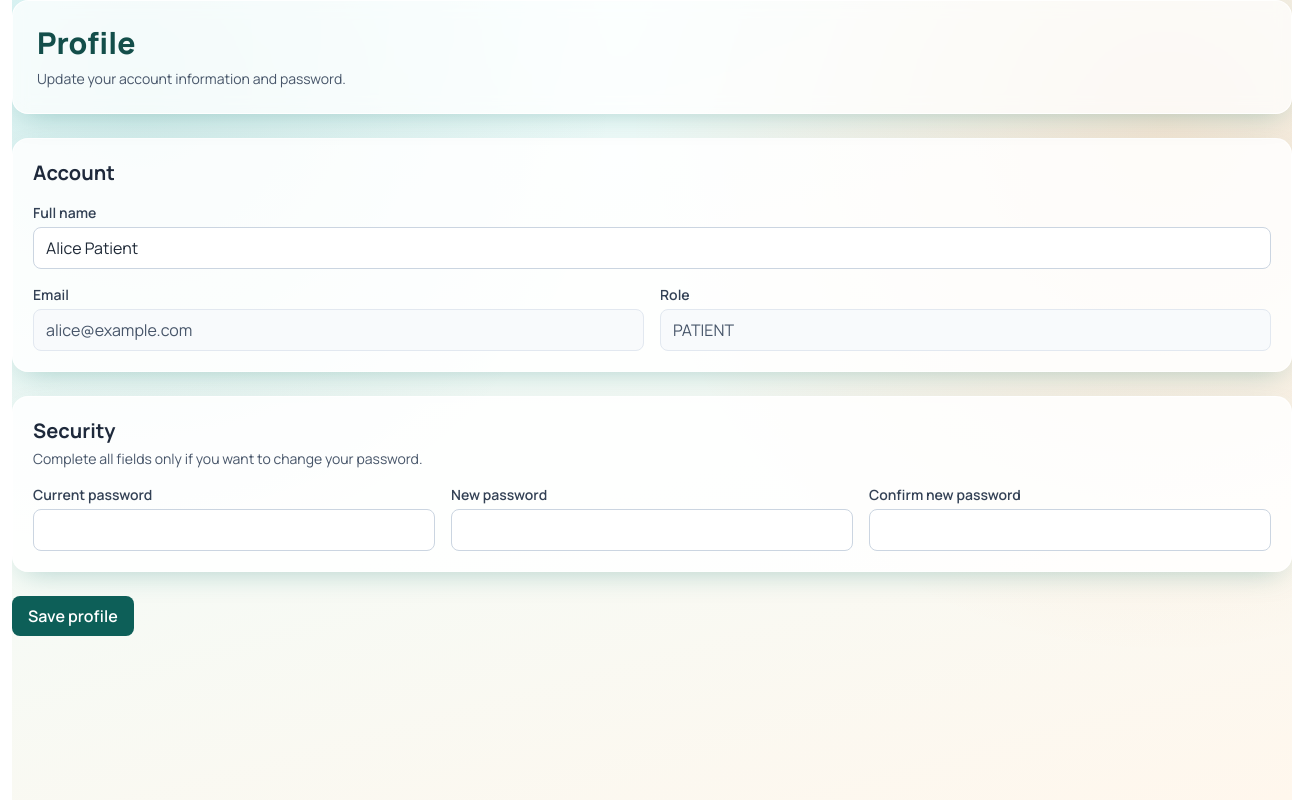
ProfilePage › submits patient profile update through auth endpoint
The width and height of the screenshot is (1292, 800).
Step 1. Replace the text in the field labelled "Full name" with "Alice Updated" → (652, 248), box [33, 227, 1271, 269]
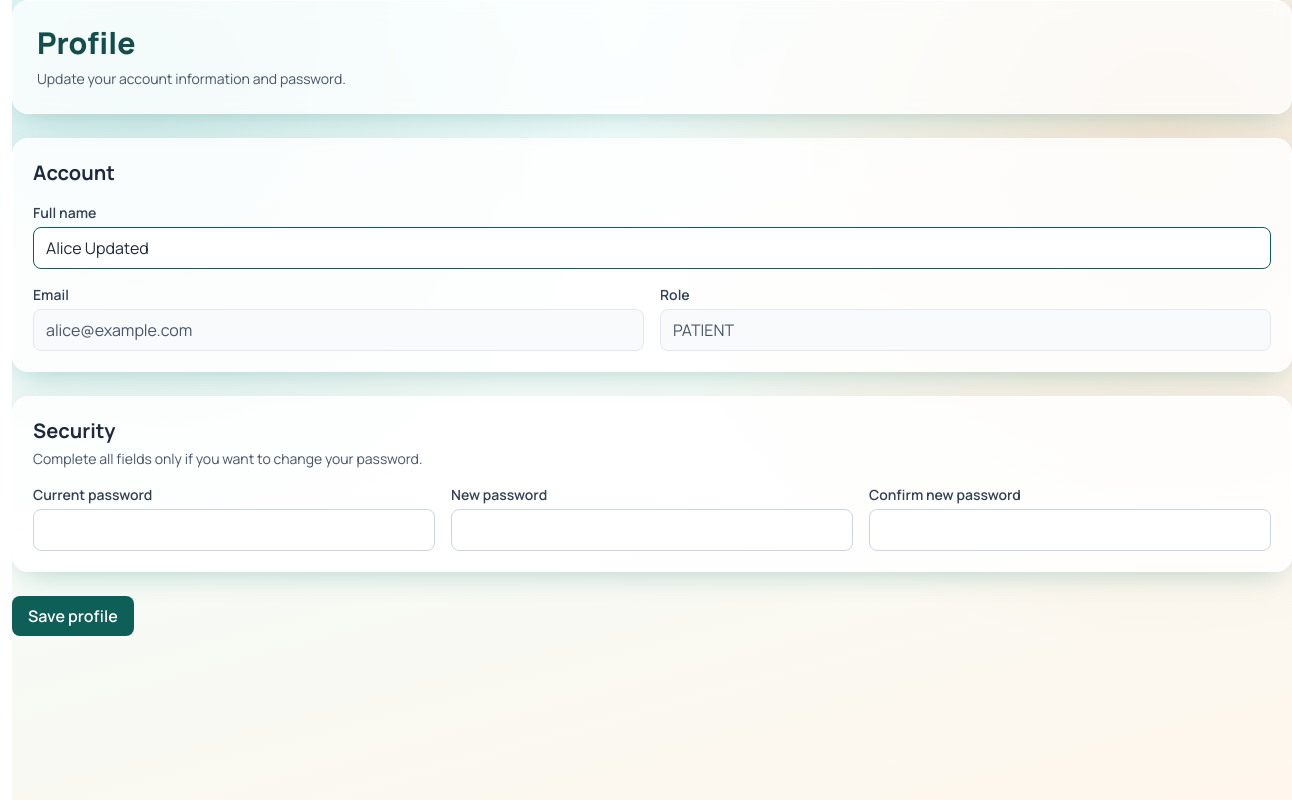
Step 2. Click the button "Save profile" → (73, 616), box [12, 596, 134, 636]
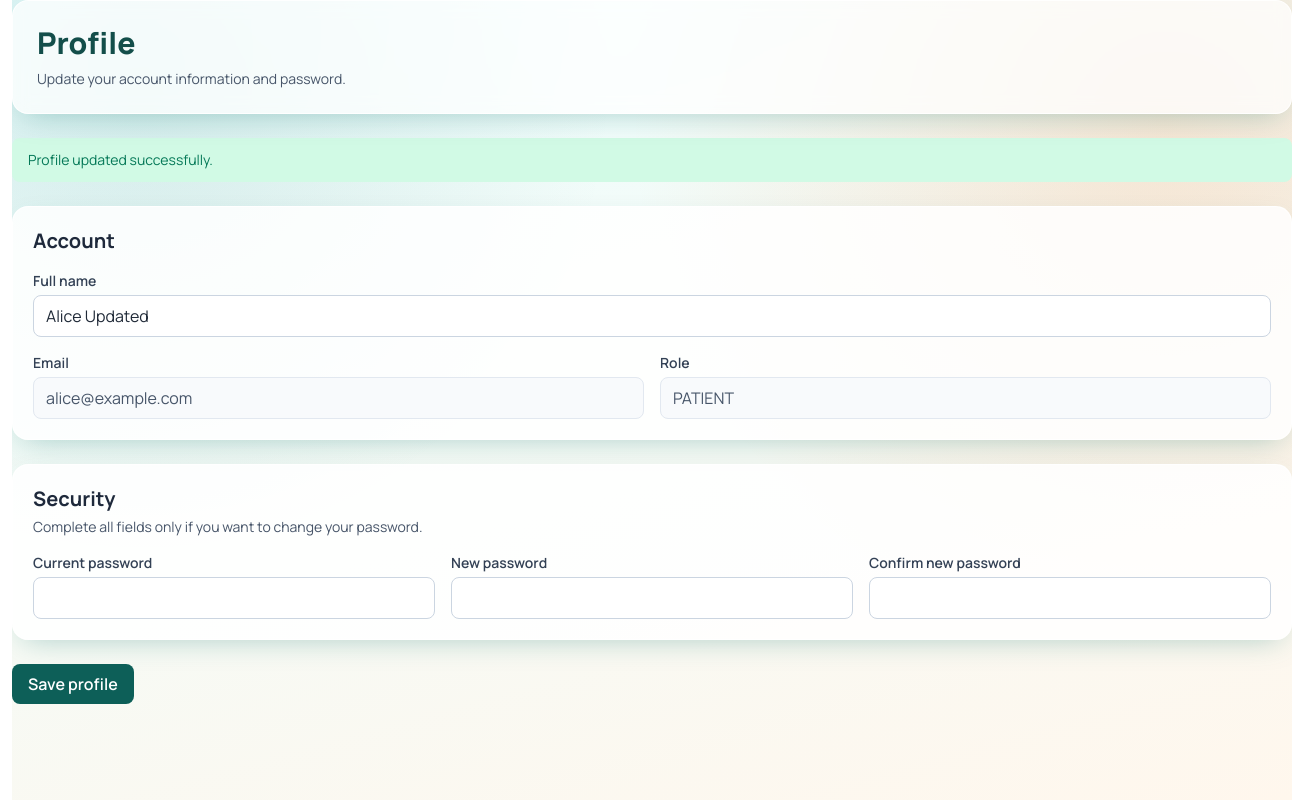
Check: the text "Profile updated successfully." is shown, box [12, 138, 1291, 182]
